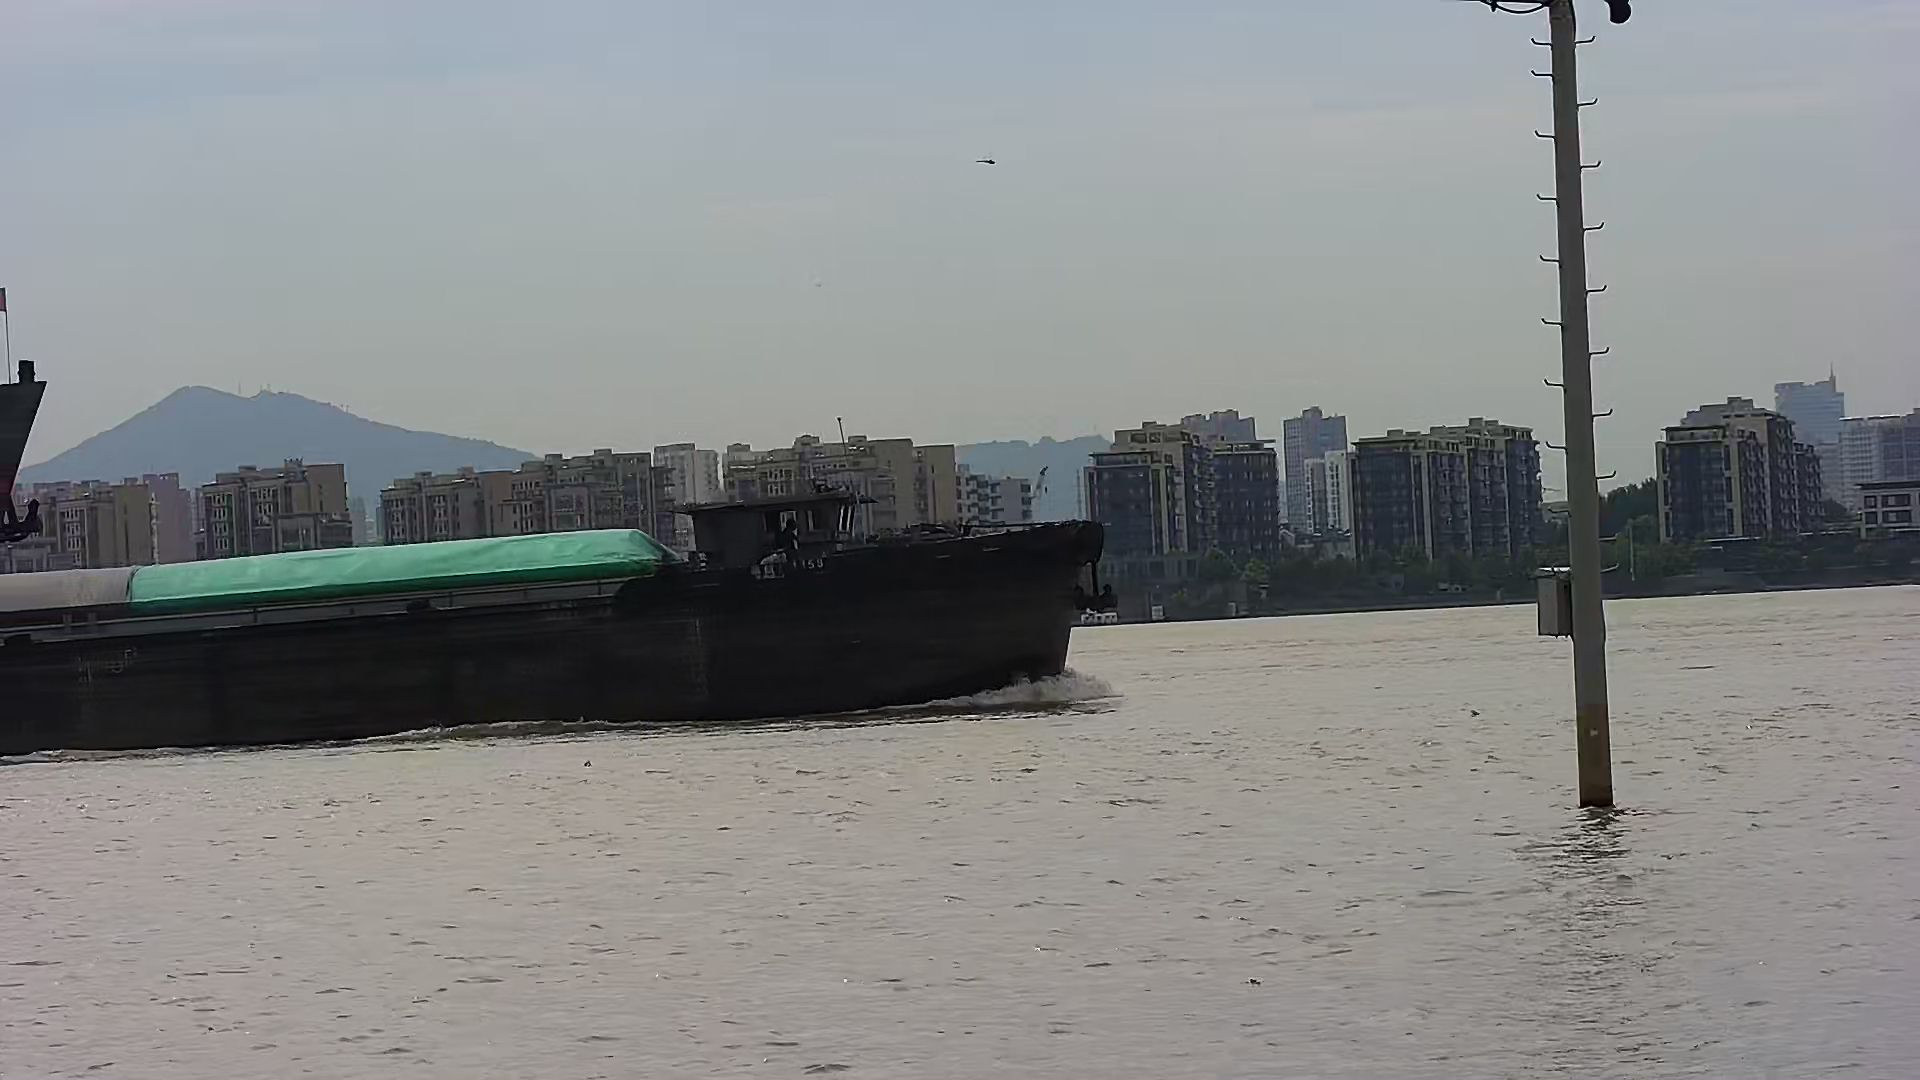mast: (1484, 1, 1633, 807)
ship: (1, 520, 1100, 765), (1, 287, 44, 549)
